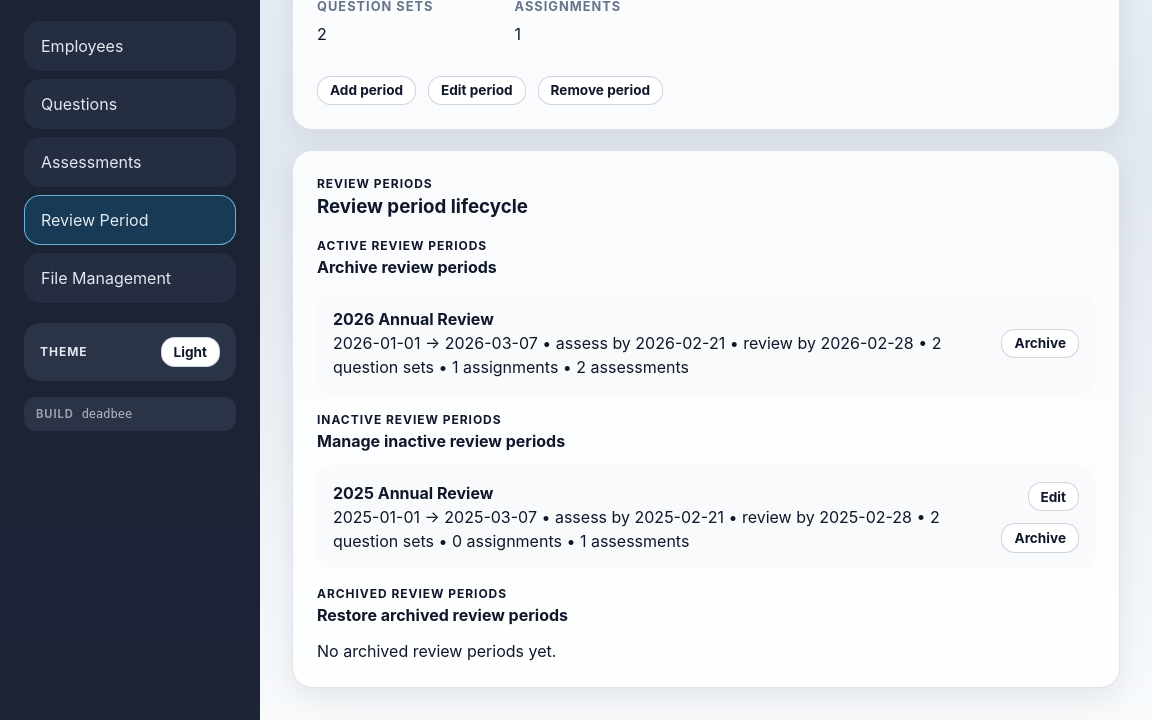
Test case: questions screen › archives inactive review periods directly from lifecycle controls
The image size is (1152, 720).
(page scrolled)
Expected: the element with class "archive-section" shows "2025 Annual Review", x1=333 y1=483 x2=493 y2=503
Step 1. Click the button "Archive" in the row of "2025-02-28" → (1040, 538), box x1=1002 y1=523 x2=1079 y2=553
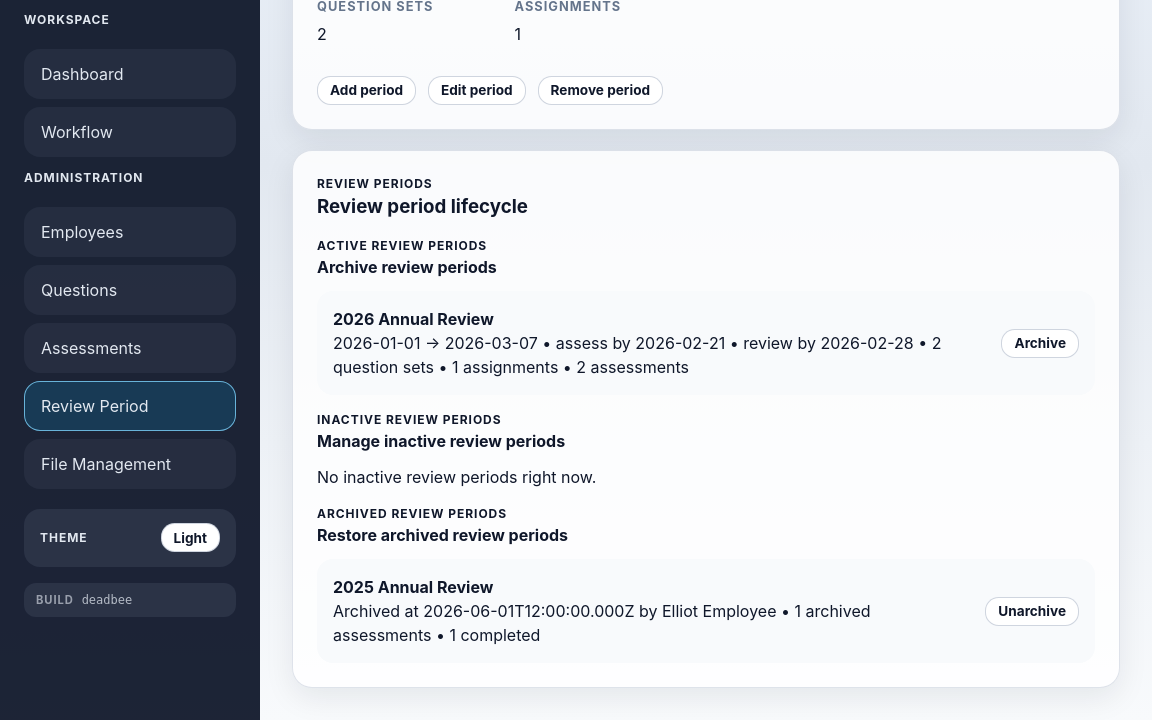
Result: the element with class "archive-section" no longer shows "2025 Annual Review"
Result: the element with class "archive-section" shows "2025 Annual Review" at x1=333 y1=577 x2=493 y2=597
Result: the element with class "archive-section" shows "Unarchive" at x1=985 y1=597 x2=1079 y2=626
